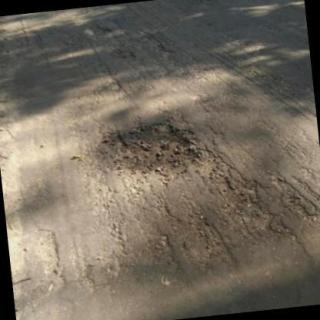pothole: (98, 124, 214, 177)
